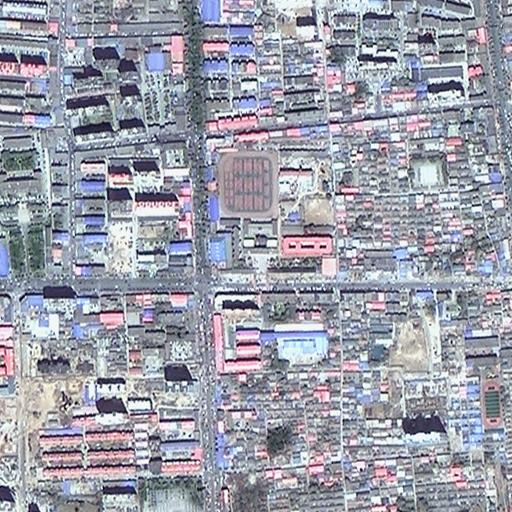school: (212, 150, 335, 271)
